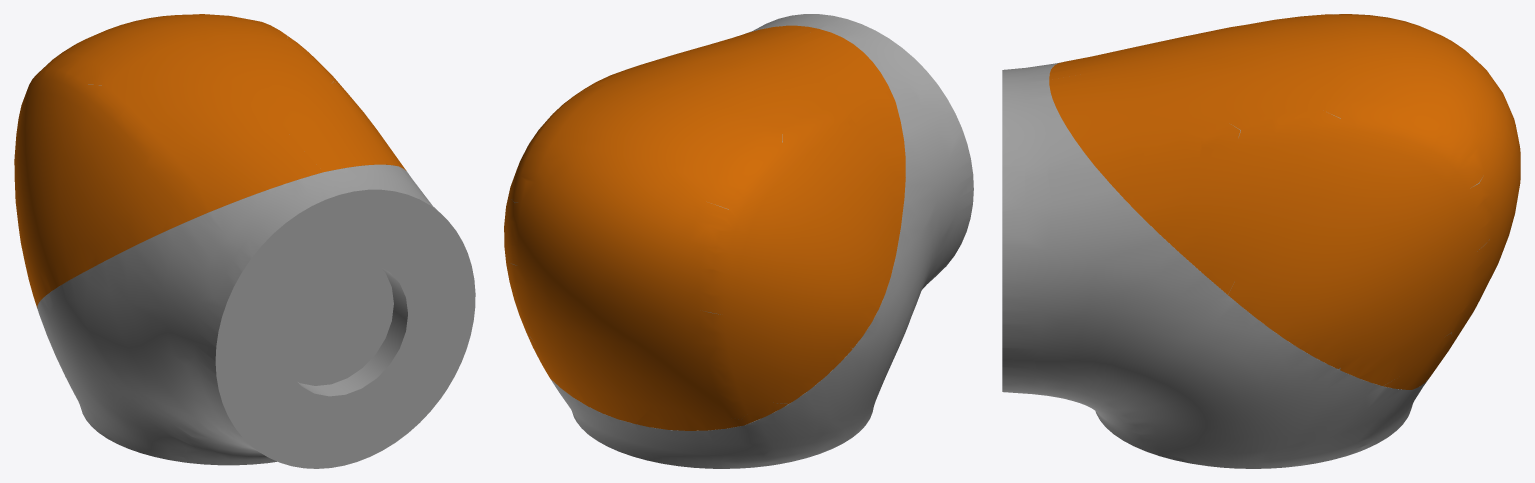
The picture shows the model from 3 angles, left to right: view 1: azimuth 30°, elevation 25°; view 2: azimuth 150°, elevation 25°; view 3: azimuth 270°, elevation 25°; orthographic projection. The views are drawn at different scales.
Visible parts, largest first — view 1: ShapeIndexedFaceSet; view 2: ShapeIndexedFaceSet; view 3: ShapeIndexedFaceSet.
Boxes of the visible parts, <box> form: ShapeIndexedFaceSet: <box>14,14,475,468</box>; ShapeIndexedFaceSet: <box>504,14,973,468</box>; ShapeIndexedFaceSet: <box>1002,14,1520,468</box>.
Size of the model in its own units: 0.1322 by 0.1376 by 0.1673.
